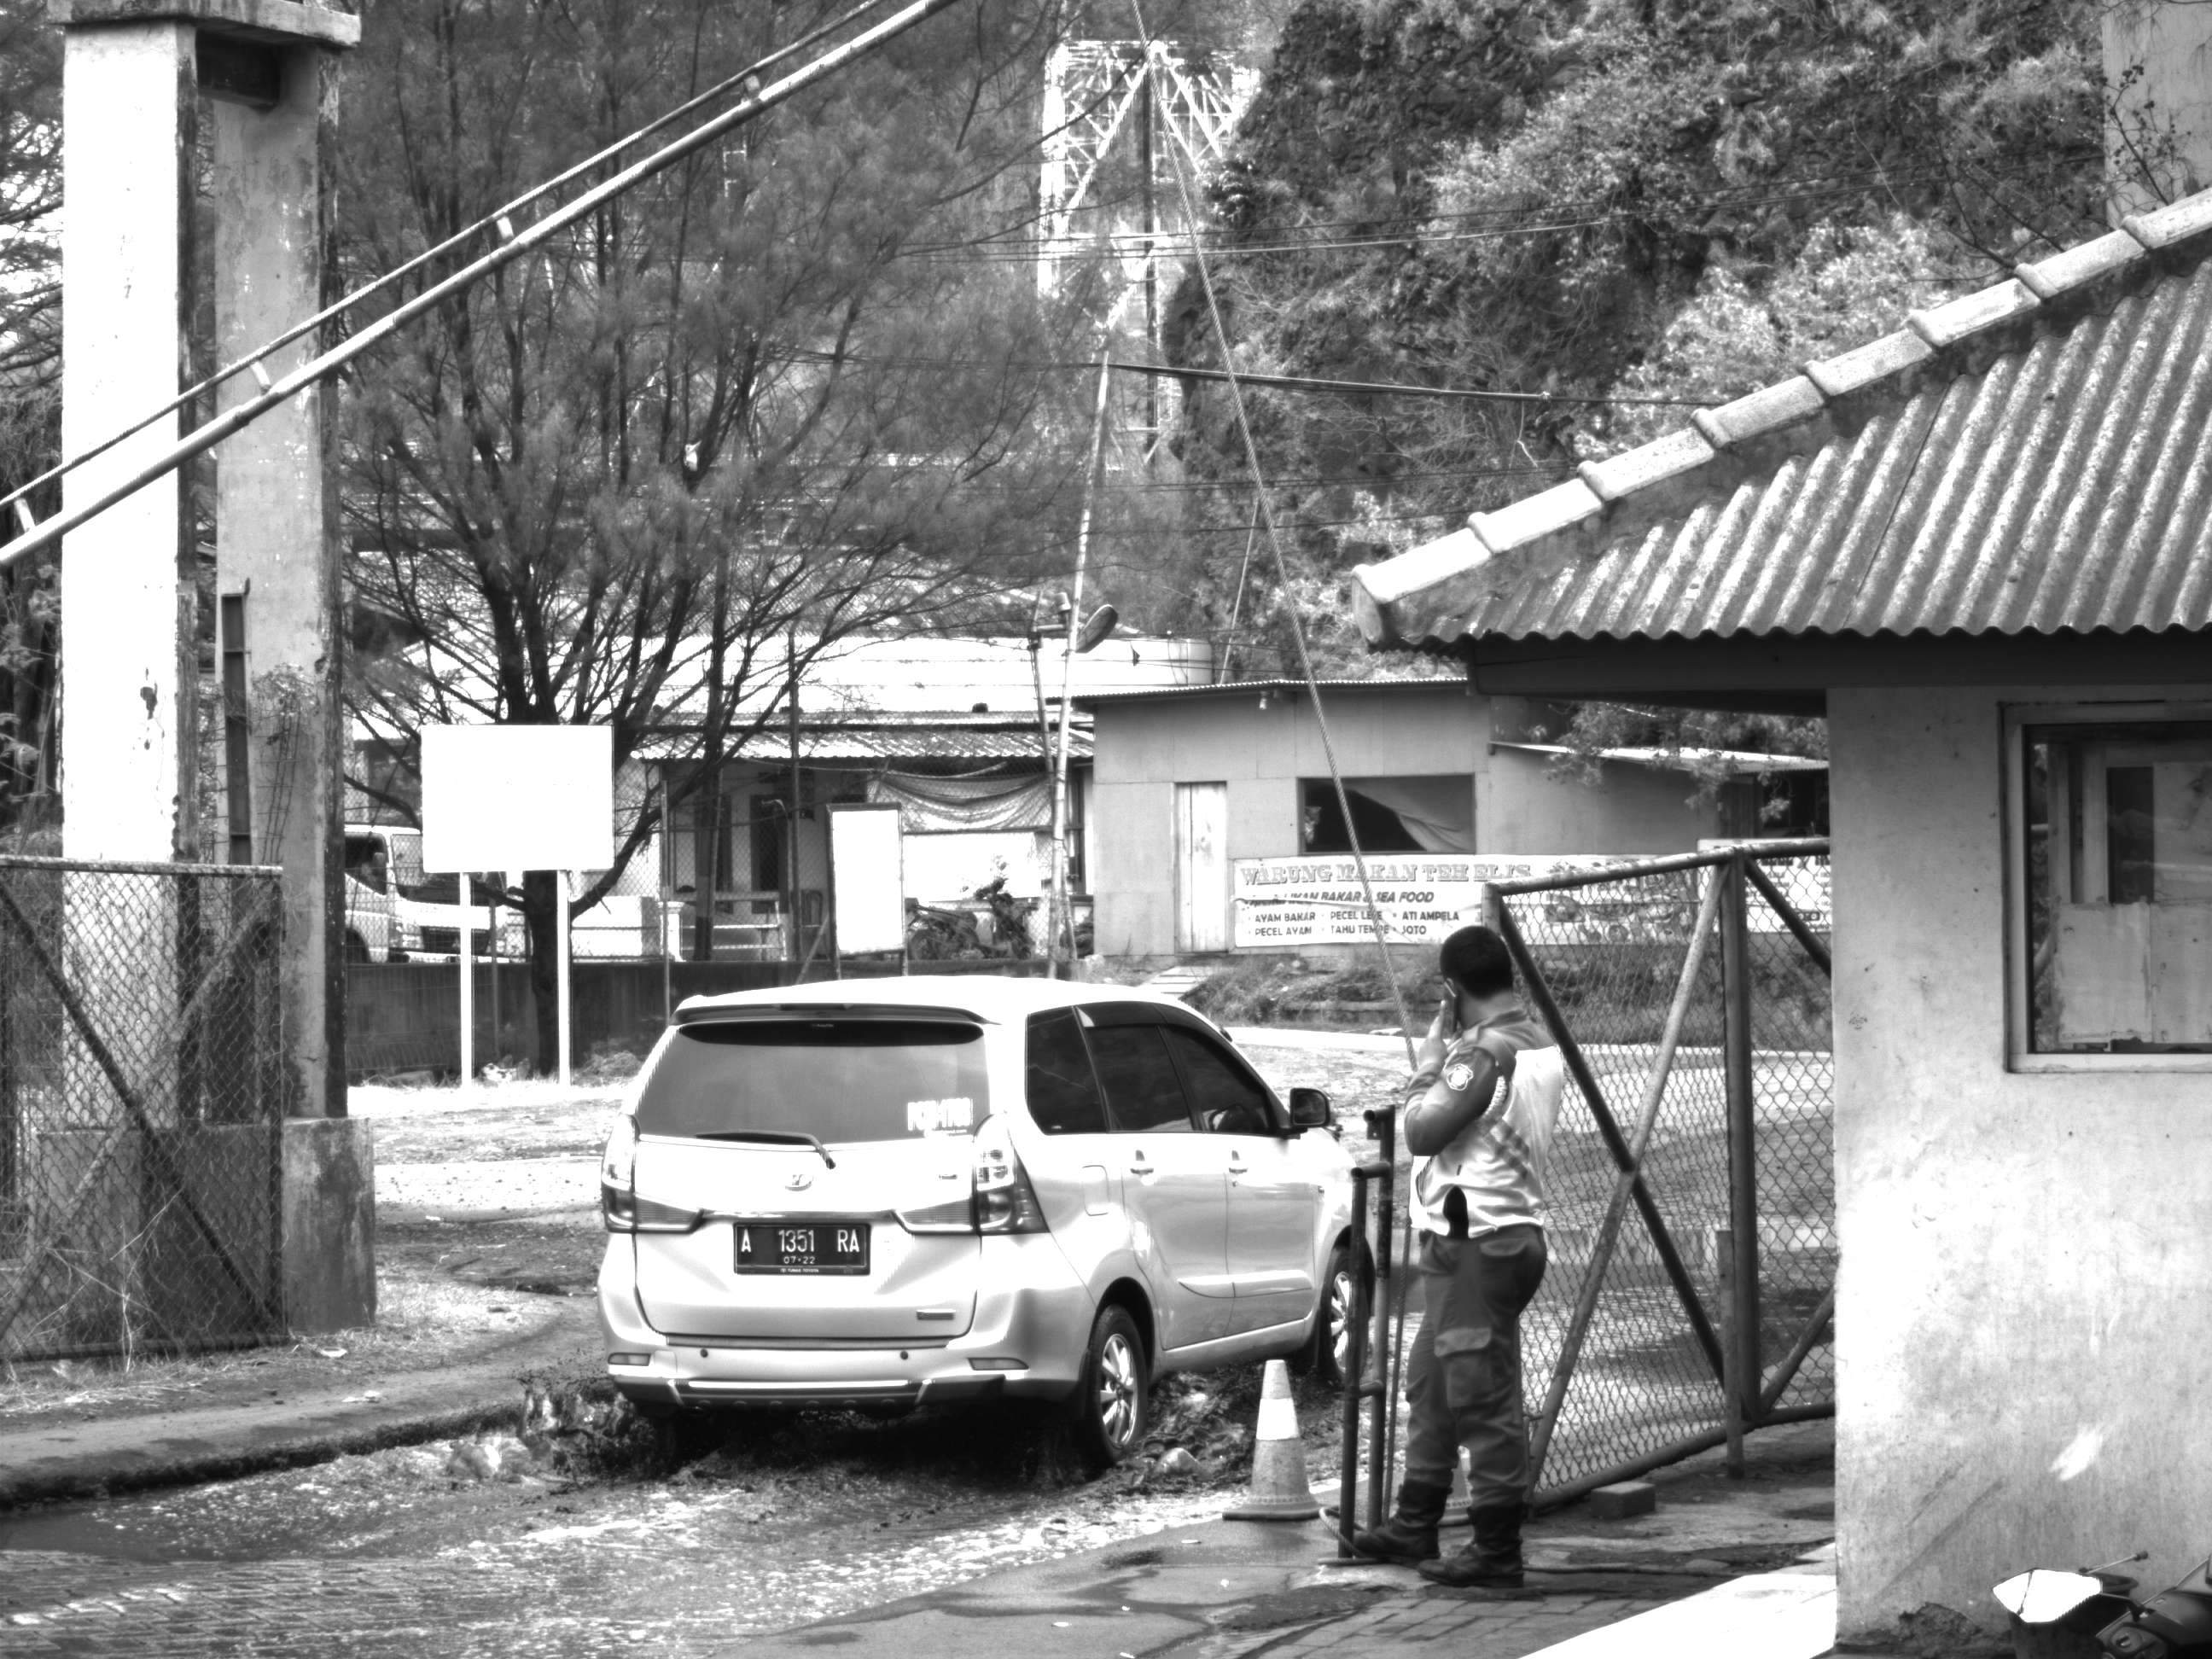day_small_rear: (592, 975, 1173, 1465)
plate: (727, 1216, 875, 1280)
